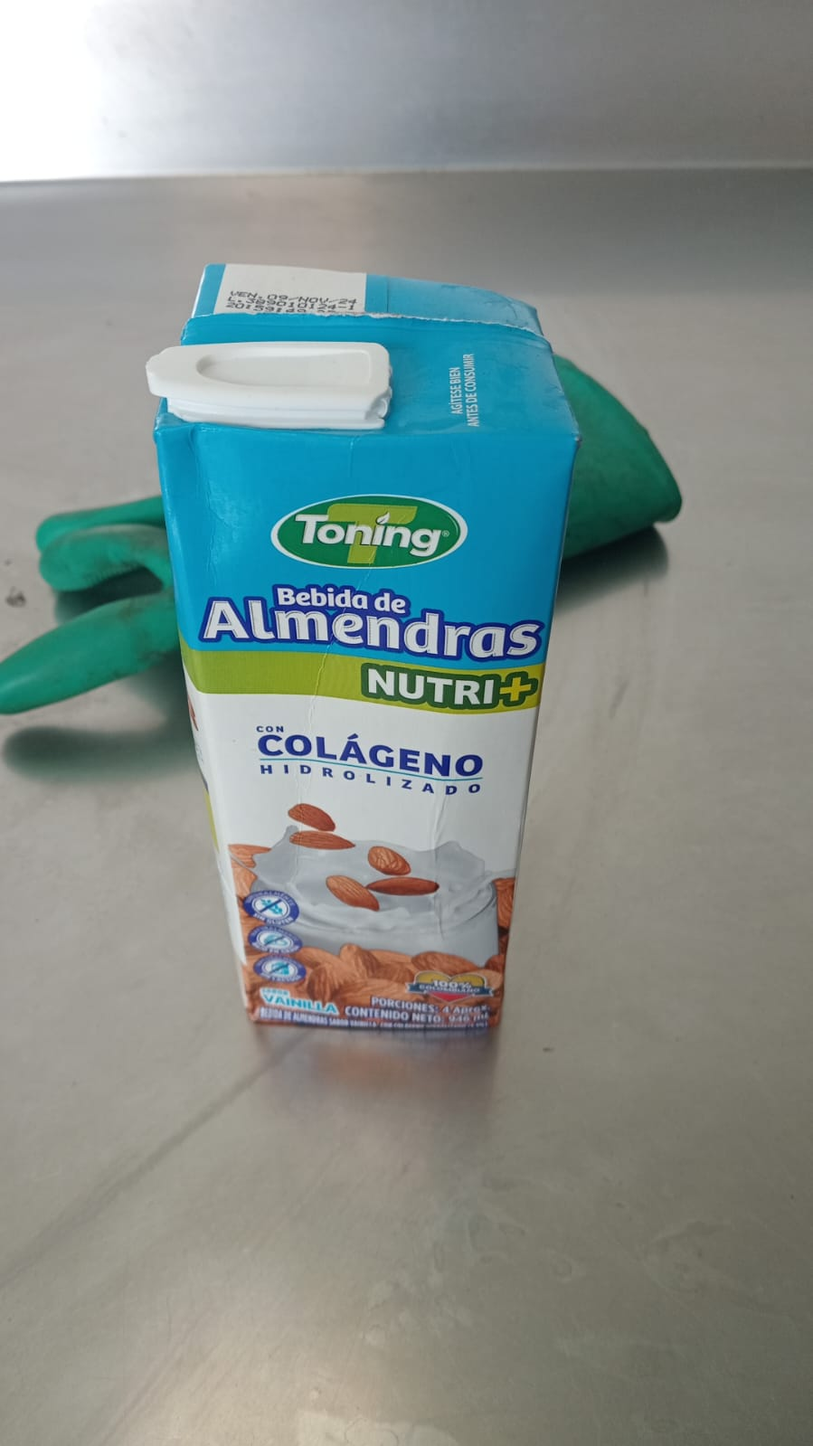Carton: (157, 260, 575, 1035)
